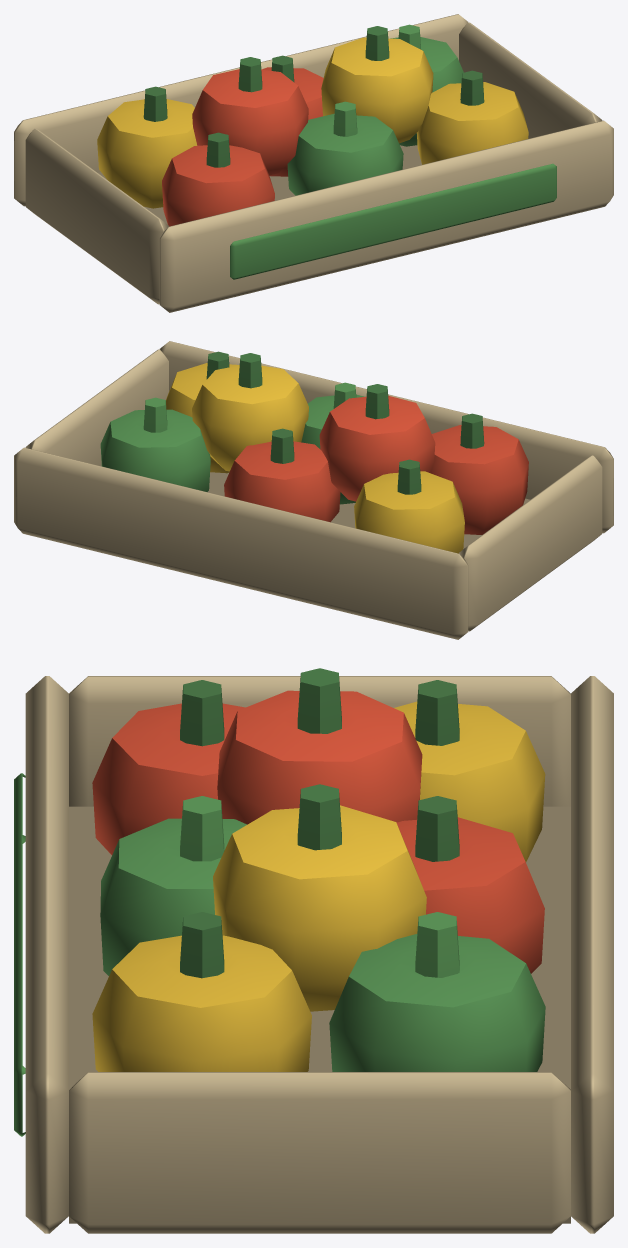
File: ProduceTray_Peppers_01.glb
3 views of the same model, one above another, from view 1: azimuth 30°, elevation 25°; view 2: azimuth 150°, elevation 25°; view 3: azimuth 270°, elevation 25° (orthographic). The views are drawn at different scales.
Visible parts, largest first — view 1: SM_ProduceTray_Peppers_01; view 2: SM_ProduceTray_Peppers_01; view 3: SM_ProduceTray_Peppers_01.
Boxes of the visible parts, <box> form: SM_ProduceTray_Peppers_01: <box>14,14,613,312</box>; SM_ProduceTray_Peppers_01: <box>14,341,613,639</box>; SM_ProduceTray_Peppers_01: <box>14,668,613,1233</box>.
Bounding box in the file's own units: 0.5 × 0.1685 × 0.306.
Materials: 1 (1 with a texture image).
